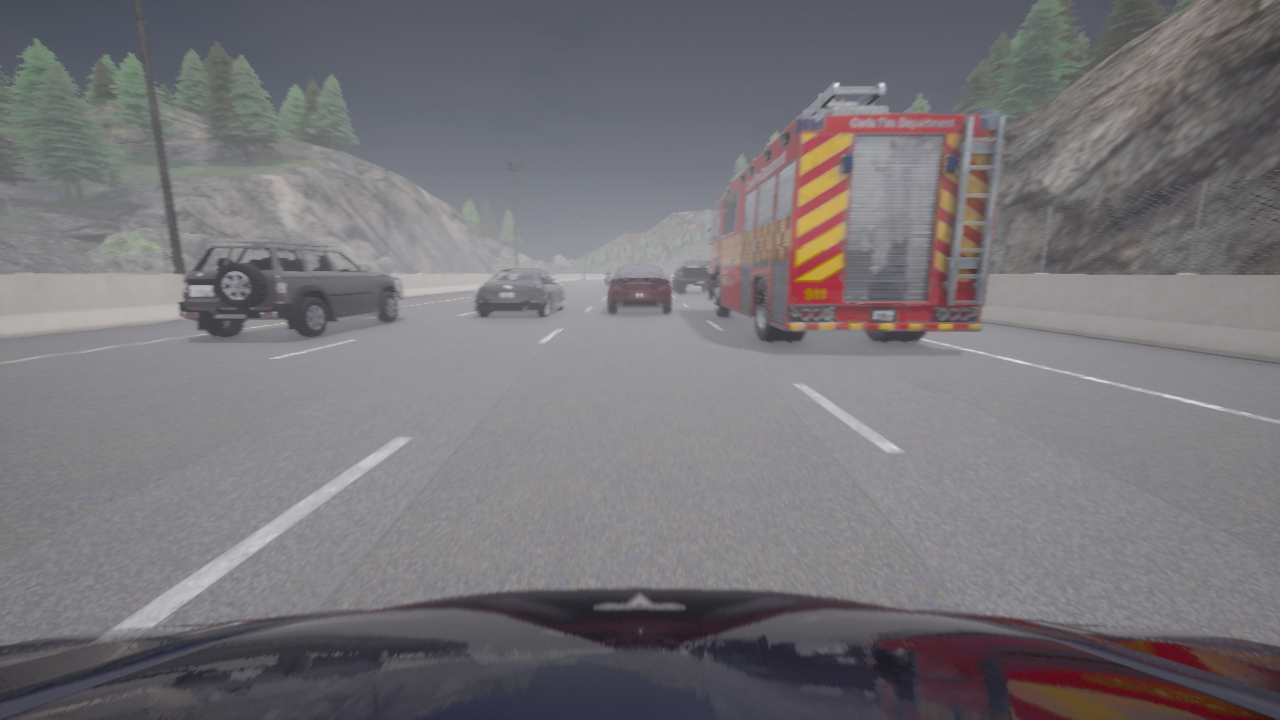cyclist: (0, 588, 1279, 719), (702, 83, 1005, 341), (178, 240, 403, 337), (475, 268, 565, 317), (608, 264, 671, 312), (673, 259, 710, 293), (606, 276, 609, 283), (550, 275, 552, 277)
